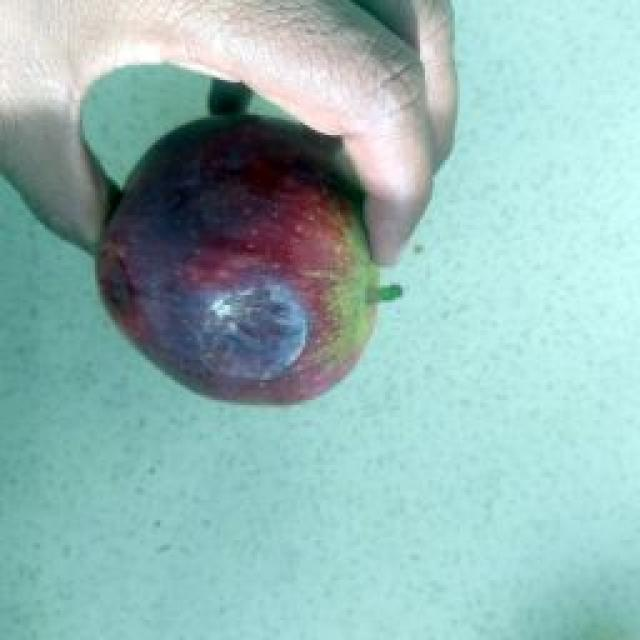Bad_Apple: (100, 115, 380, 402)
